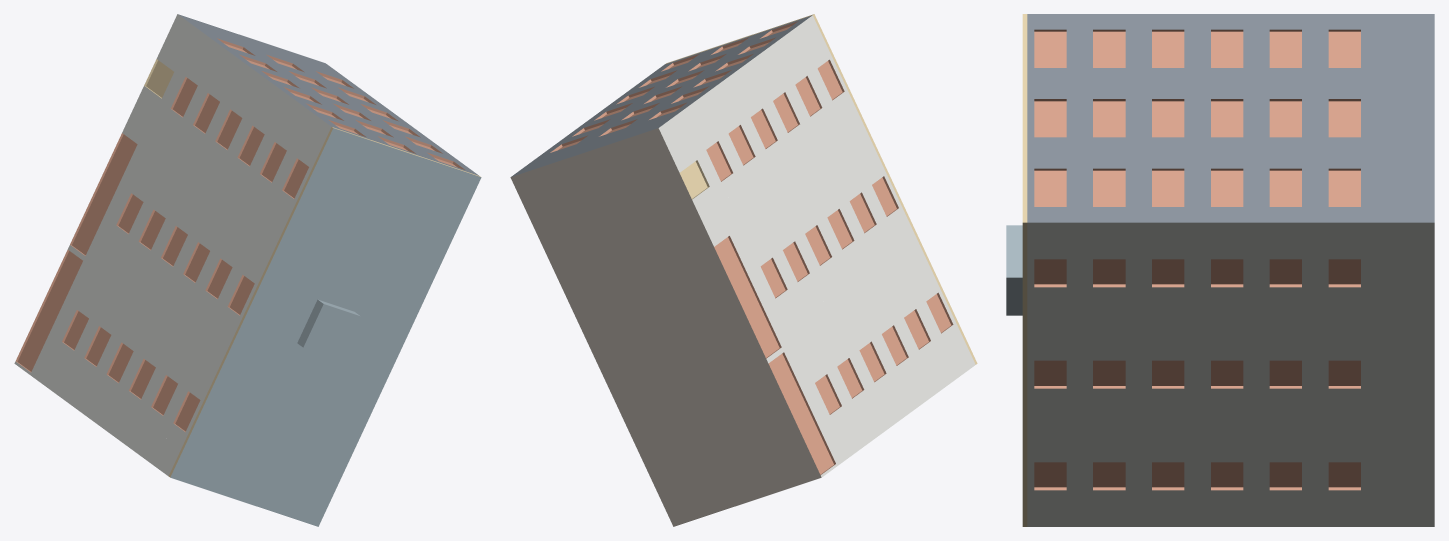
The model's file is doitt-39969__lod_0.glb.
3 views of the same model, side by side, from view 1: azimuth 30°, elevation 25°; view 2: azimuth 150°, elevation 25°; view 3: azimuth 270°, elevation 25° (orthographic). The views are drawn at different scales.
Size of the model in its own units: 27.1 by 32.88 by 24.42.
